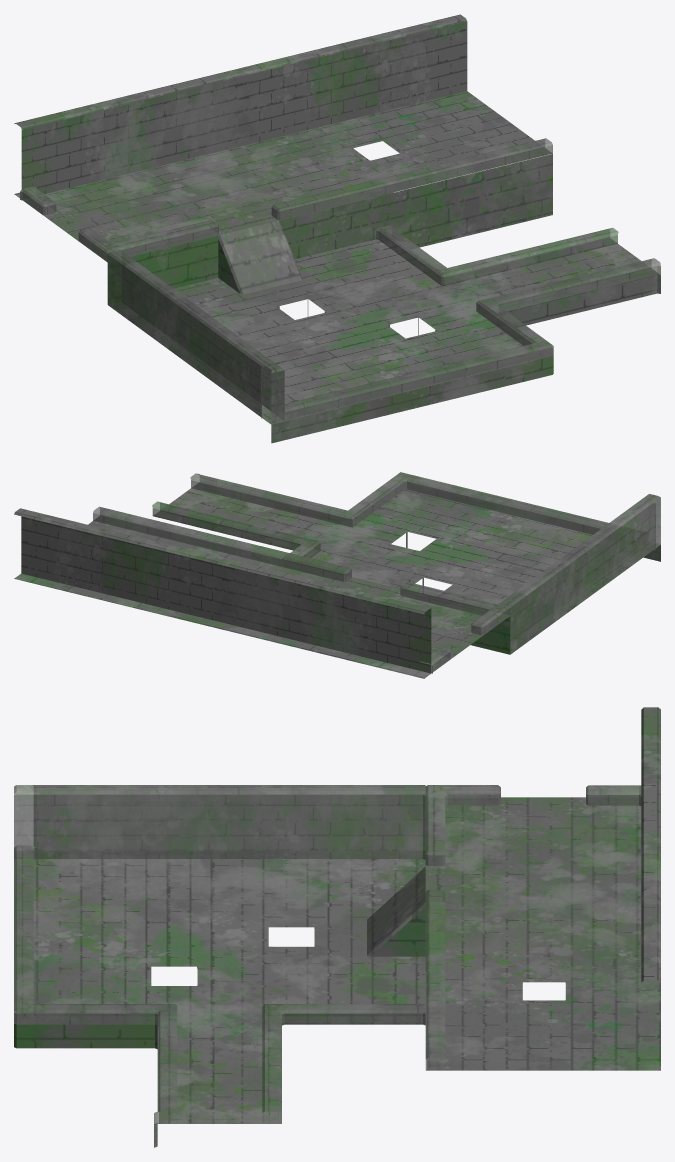
Rendered from lvl_1-cnk_2.obj.
The picture shows the model from 3 angles, top to bottom: view 1: azimuth 30°, elevation 25°; view 2: azimuth 150°, elevation 25°; view 3: azimuth 270°, elevation 25°; orthographic projection. The views are drawn at different scales.
Parts seen in each view (by area): view 1: Cube.062, Cube.063, Cube.069, Cube.064, Cube.067, Cube.065, Cube.068, Cube.066; view 2: Cube.062, Cube.063, Cube.069, Cube.064, Cube.067, Cube.065, Cube.068, Cube.066; view 3: Cube.062, Cube.069, Cube.064, Cube.063, Cube.065, Cube.067, Cube.068, Cube.066.
Boxes of the visible parts, x1=… form: Cube.062: x1=14, y1=91, x2=660, y2=443; Cube.063: x1=14, y1=14, x2=467, y2=198; Cube.069: x1=107, y1=249, x2=284, y2=424; Cube.064: x1=284, y1=258, x2=660, y2=421; Cube.067: x1=271, y1=138, x2=552, y2=219; Cube.065: x1=376, y1=225, x2=618, y2=285; Cube.068: x1=78, y1=220, x2=218, y2=261; Cube.066: x1=20, y1=186, x2=56, y2=215; Cube.062: x1=14, y1=481, x2=660, y2=678; Cube.063: x1=14, y1=508, x2=431, y2=673; Cube.069: x1=498, y1=494, x2=660, y2=654; Cube.064: x1=190, y1=472, x2=608, y2=534; Cube.067: x1=93, y1=506, x2=351, y2=581; Cube.065: x1=152, y1=501, x2=320, y2=558; Cube.068: x1=400, y1=582, x2=510, y2=635; Cube.066: x1=420, y1=647, x2=450, y2=673; Cube.062: x1=14, y1=797, x2=660, y2=1147; Cube.069: x1=14, y1=785, x2=425, y2=859; Cube.064: x1=14, y1=845, x2=177, y2=1123; Cube.063: x1=641, y1=707, x2=660, y2=982; Cube.065: x1=262, y1=1004, x2=425, y2=1123; Cube.067: x1=425, y1=890, x2=445, y2=1070; Cube.068: x1=425, y1=785, x2=500, y2=865; Cube.066: x1=586, y1=785, x2=641, y2=805.
Size of the model in its own units: 99.89 by 28.22 by 99.
